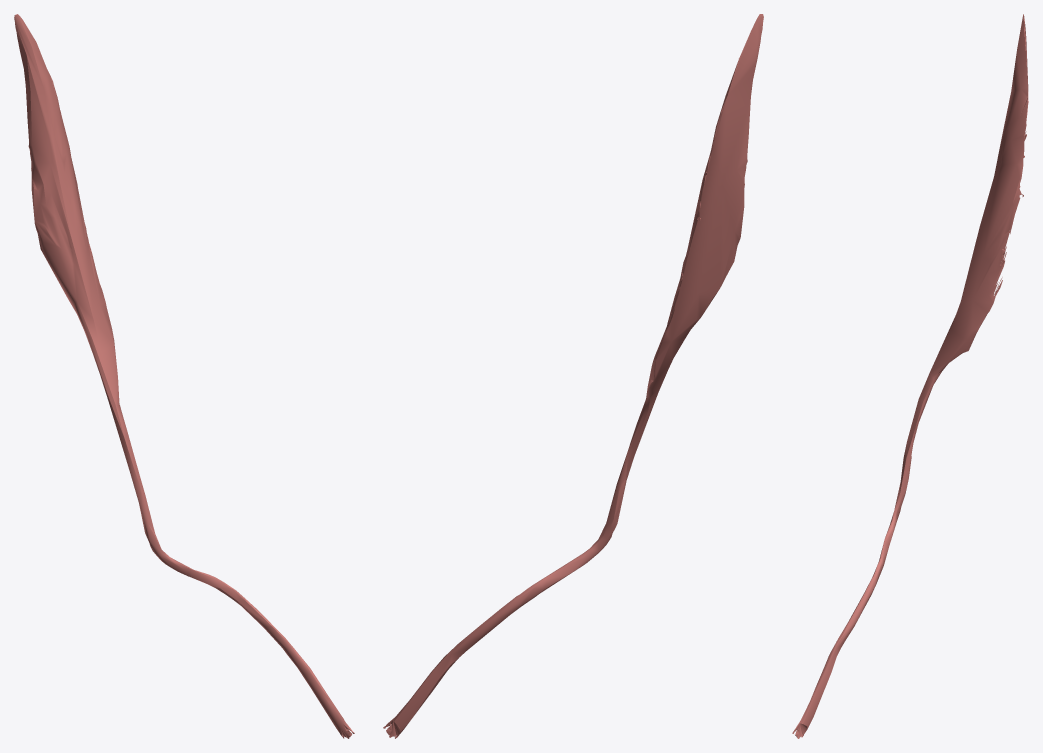
File: fma38484_fj1498m.glb
3 renders of one model, left to right at view 1: azimuth 30°, elevation 25°; view 2: azimuth 210°, elevation 25°; view 3: azimuth 270°, elevation 25°, orthographic. The views are drawn at different scales.
Visible parts, largest first — view 1: FMA38484_FJ1498M; view 2: FMA38484_FJ1498M; view 3: FMA38484_FJ1498M.
Boxes of the visible parts, x1,y1,x2,y2 form: FMA38484_FJ1498M: [14, 14, 354, 738]; FMA38484_FJ1498M: [383, 14, 763, 738]; FMA38484_FJ1498M: [792, 14, 1028, 738].
Size of the model in its own units: 0.0756 by 0.2307 by 0.0783.
